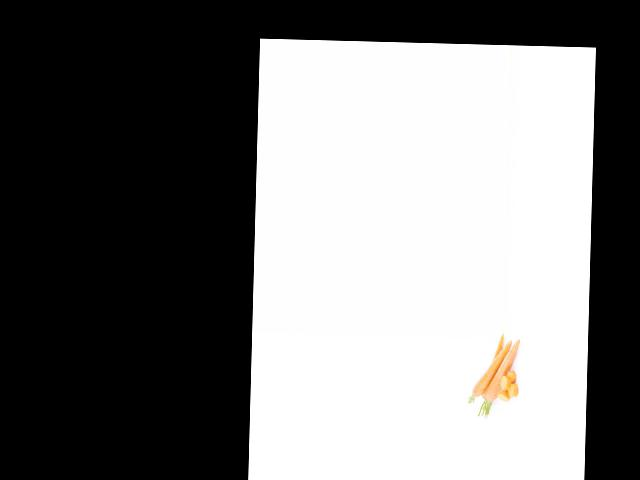carrot: (483, 337, 520, 407)
